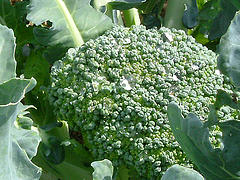broccoli: (41, 26, 223, 173)
